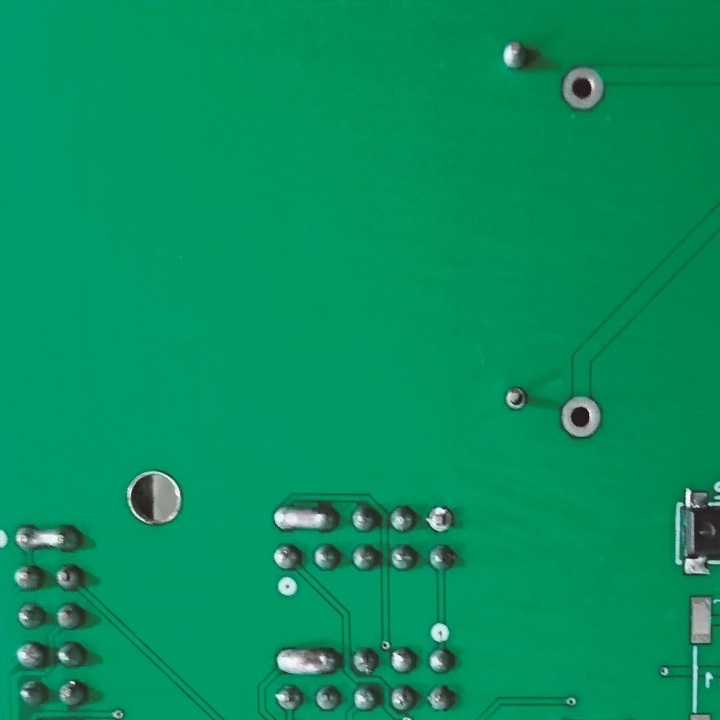F: (556, 63, 607, 117), (556, 395, 608, 443), (424, 504, 456, 537), (501, 384, 528, 412)
P: (272, 644, 345, 678), (270, 500, 339, 535), (12, 523, 81, 553)
